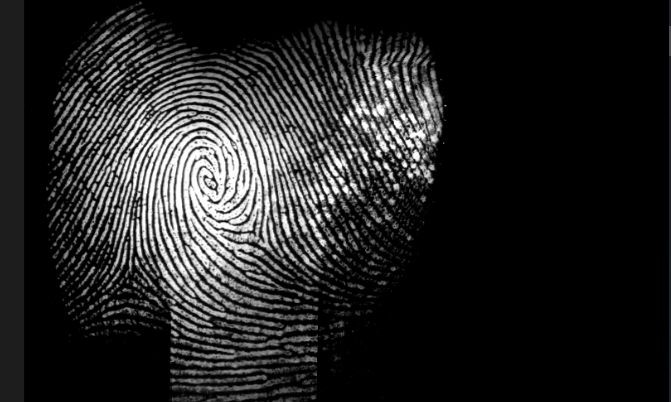deltas: (100, 251, 158, 305), (229, 213, 280, 262)
nucleo: (176, 149, 233, 206)
